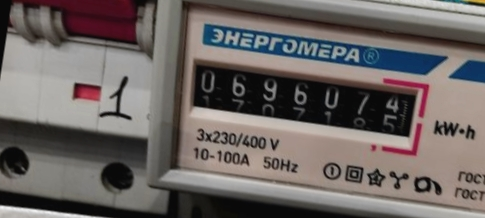0: (196, 65, 217, 93), (321, 82, 340, 110)
4: (383, 90, 400, 113)
5: (380, 112, 396, 133)
6: (227, 69, 248, 97), (290, 77, 310, 106)
7: (351, 87, 371, 115)
9: (258, 74, 279, 102)
screen: (177, 44, 432, 157)
